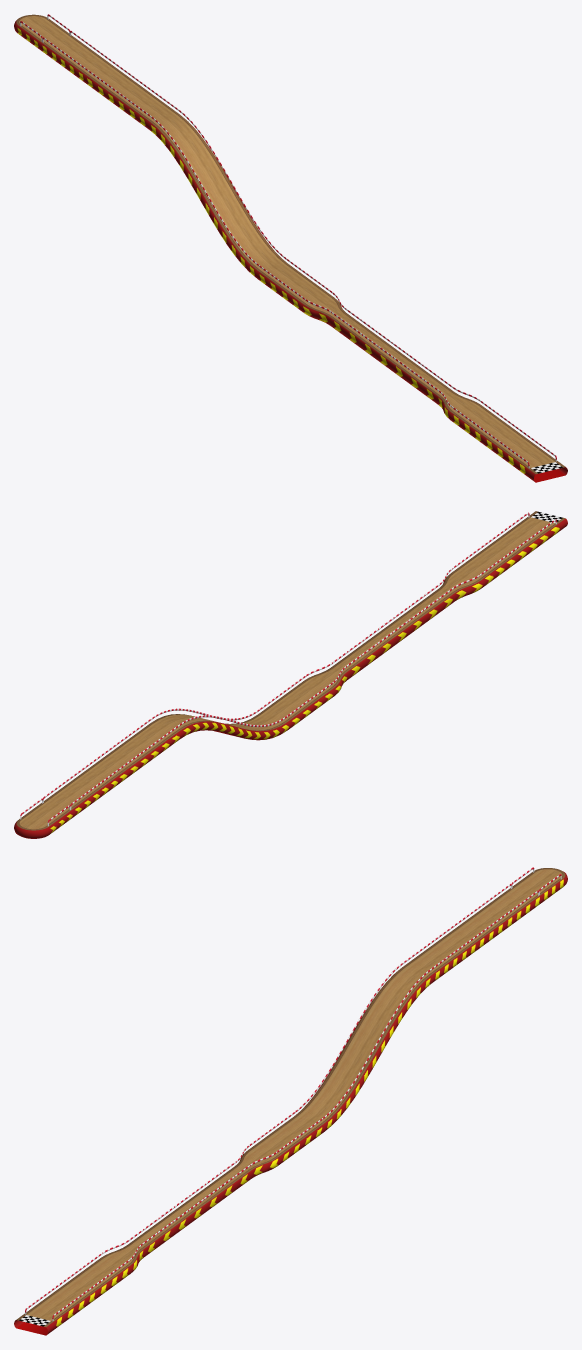
The model's file is map1.fbx.
3 renders of one model, top to bottom at view 1: azimuth 30°, elevation 25°; view 2: azimuth 150°, elevation 25°; view 3: azimuth 330°, elevation 25°, orthographic.
Parts seen in each view (by area): view 1: Terrain_CurveDown_Bar_2, Terrain_Flat_BarEnd_1, Terrain_Flat_Bar_2, Terrain_Flat_BarStart_1, Terrain_Flat_Bar_1, Dummy_Start_1, TerrainLink_2, Dummy_Finish_1; view 2: Terrain_Flat_BarEnd_1, Terrain_Flat_Bar_2, Terrain_CurveDown_Bar_2, Terrain_Flat_Bar_1, Terrain_Flat_BarStart_1, Dummy_Start_1, TerrainLink_3, TerrainLink_2, Edge; view 3: Terrain_CurveDown_Bar_2, Terrain_Flat_BarEnd_1, Terrain_Flat_Bar_2, Terrain_Flat_BarStart_1, Terrain_Flat_Bar_1, Dummy_Start_1, TerrainLink_2, Dummy_Finish_1.
Part boxes in pixels (box(x1,y1,x2,y2)): Terrain_CurveDown_Bar_2: box(148, 114, 287, 277); Terrain_Flat_BarEnd_1: box(449, 405, 558, 475); Terrain_Flat_Bar_2: box(86, 69, 179, 129); Terrain_Flat_BarStart_1: box(39, 35, 117, 83); Terrain_Flat_Bar_1: box(256, 263, 333, 311); Dummy_Start_1: box(16, 19, 69, 49); TerrainLink_2: box(302, 297, 346, 325); Dummy_Finish_1: box(526, 461, 567, 482); Terrain_Flat_BarEnd_1: box(451, 517, 560, 587); Terrain_Flat_Bar_2: box(88, 723, 181, 783); Terrain_CurveDown_Bar_2: box(150, 714, 289, 740); Terrain_Flat_Bar_1: box(258, 680, 336, 729); Terrain_Flat_BarStart_1: box(44, 768, 120, 817); Dummy_Start_1: box(19, 803, 73, 834); TerrainLink_3: box(438, 573, 482, 600); TerrainLink_2: box(304, 668, 348, 694); Edge: box(14, 819, 50, 838); Terrain_CurveDown_Bar_2: box(294, 967, 433, 1130); Terrain_Flat_BarEnd_1: box(23, 1258, 132, 1329); Terrain_Flat_Bar_2: box(402, 922, 495, 981); Terrain_Flat_BarStart_1: box(464, 888, 541, 937); Terrain_Flat_Bar_1: box(248, 1116, 325, 1165); Dummy_Start_1: box(510, 872, 565, 903); TerrainLink_2: box(235, 1150, 279, 1178); Dummy_Finish_1: box(14, 1314, 55, 1335).
Size of the model in its own units: 512 by 1200 by 13664.
6 materials, 5 textured.
